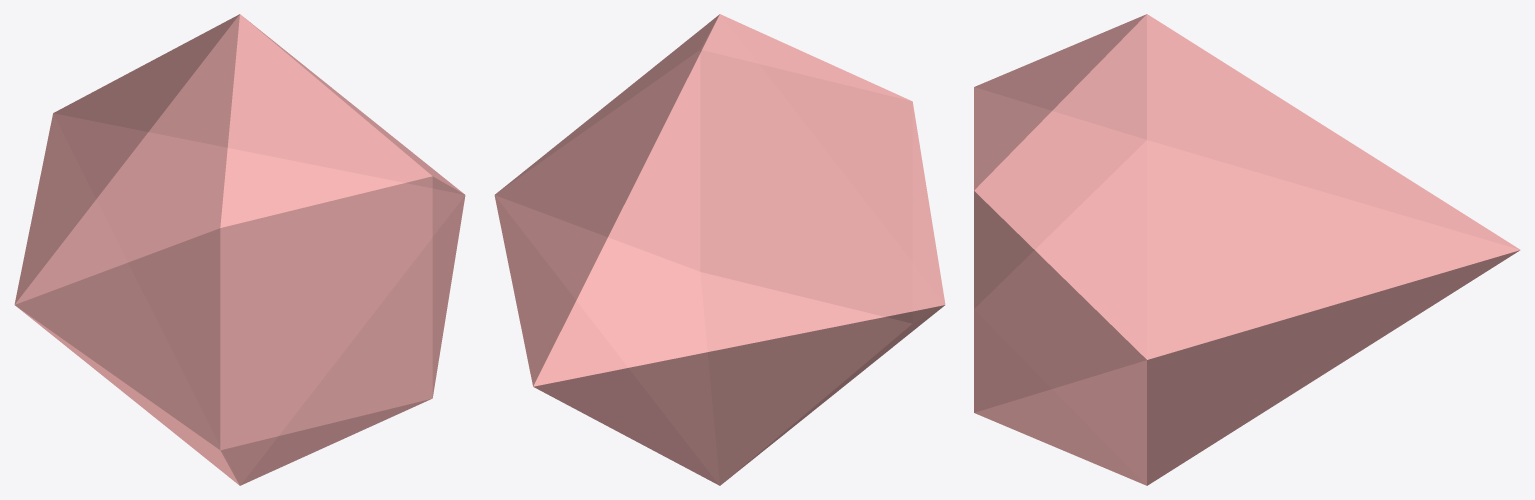
Rendered from SquareAntiprism.obj.
3 renders of one model, left to right at view 1: azimuth 30°, elevation 25°; view 2: azimuth 150°, elevation 25°; view 3: azimuth 270°, elevation 25°, orthographic.
Bounding box in the file's own units: 1.41 × 1.41 × 1.48.
